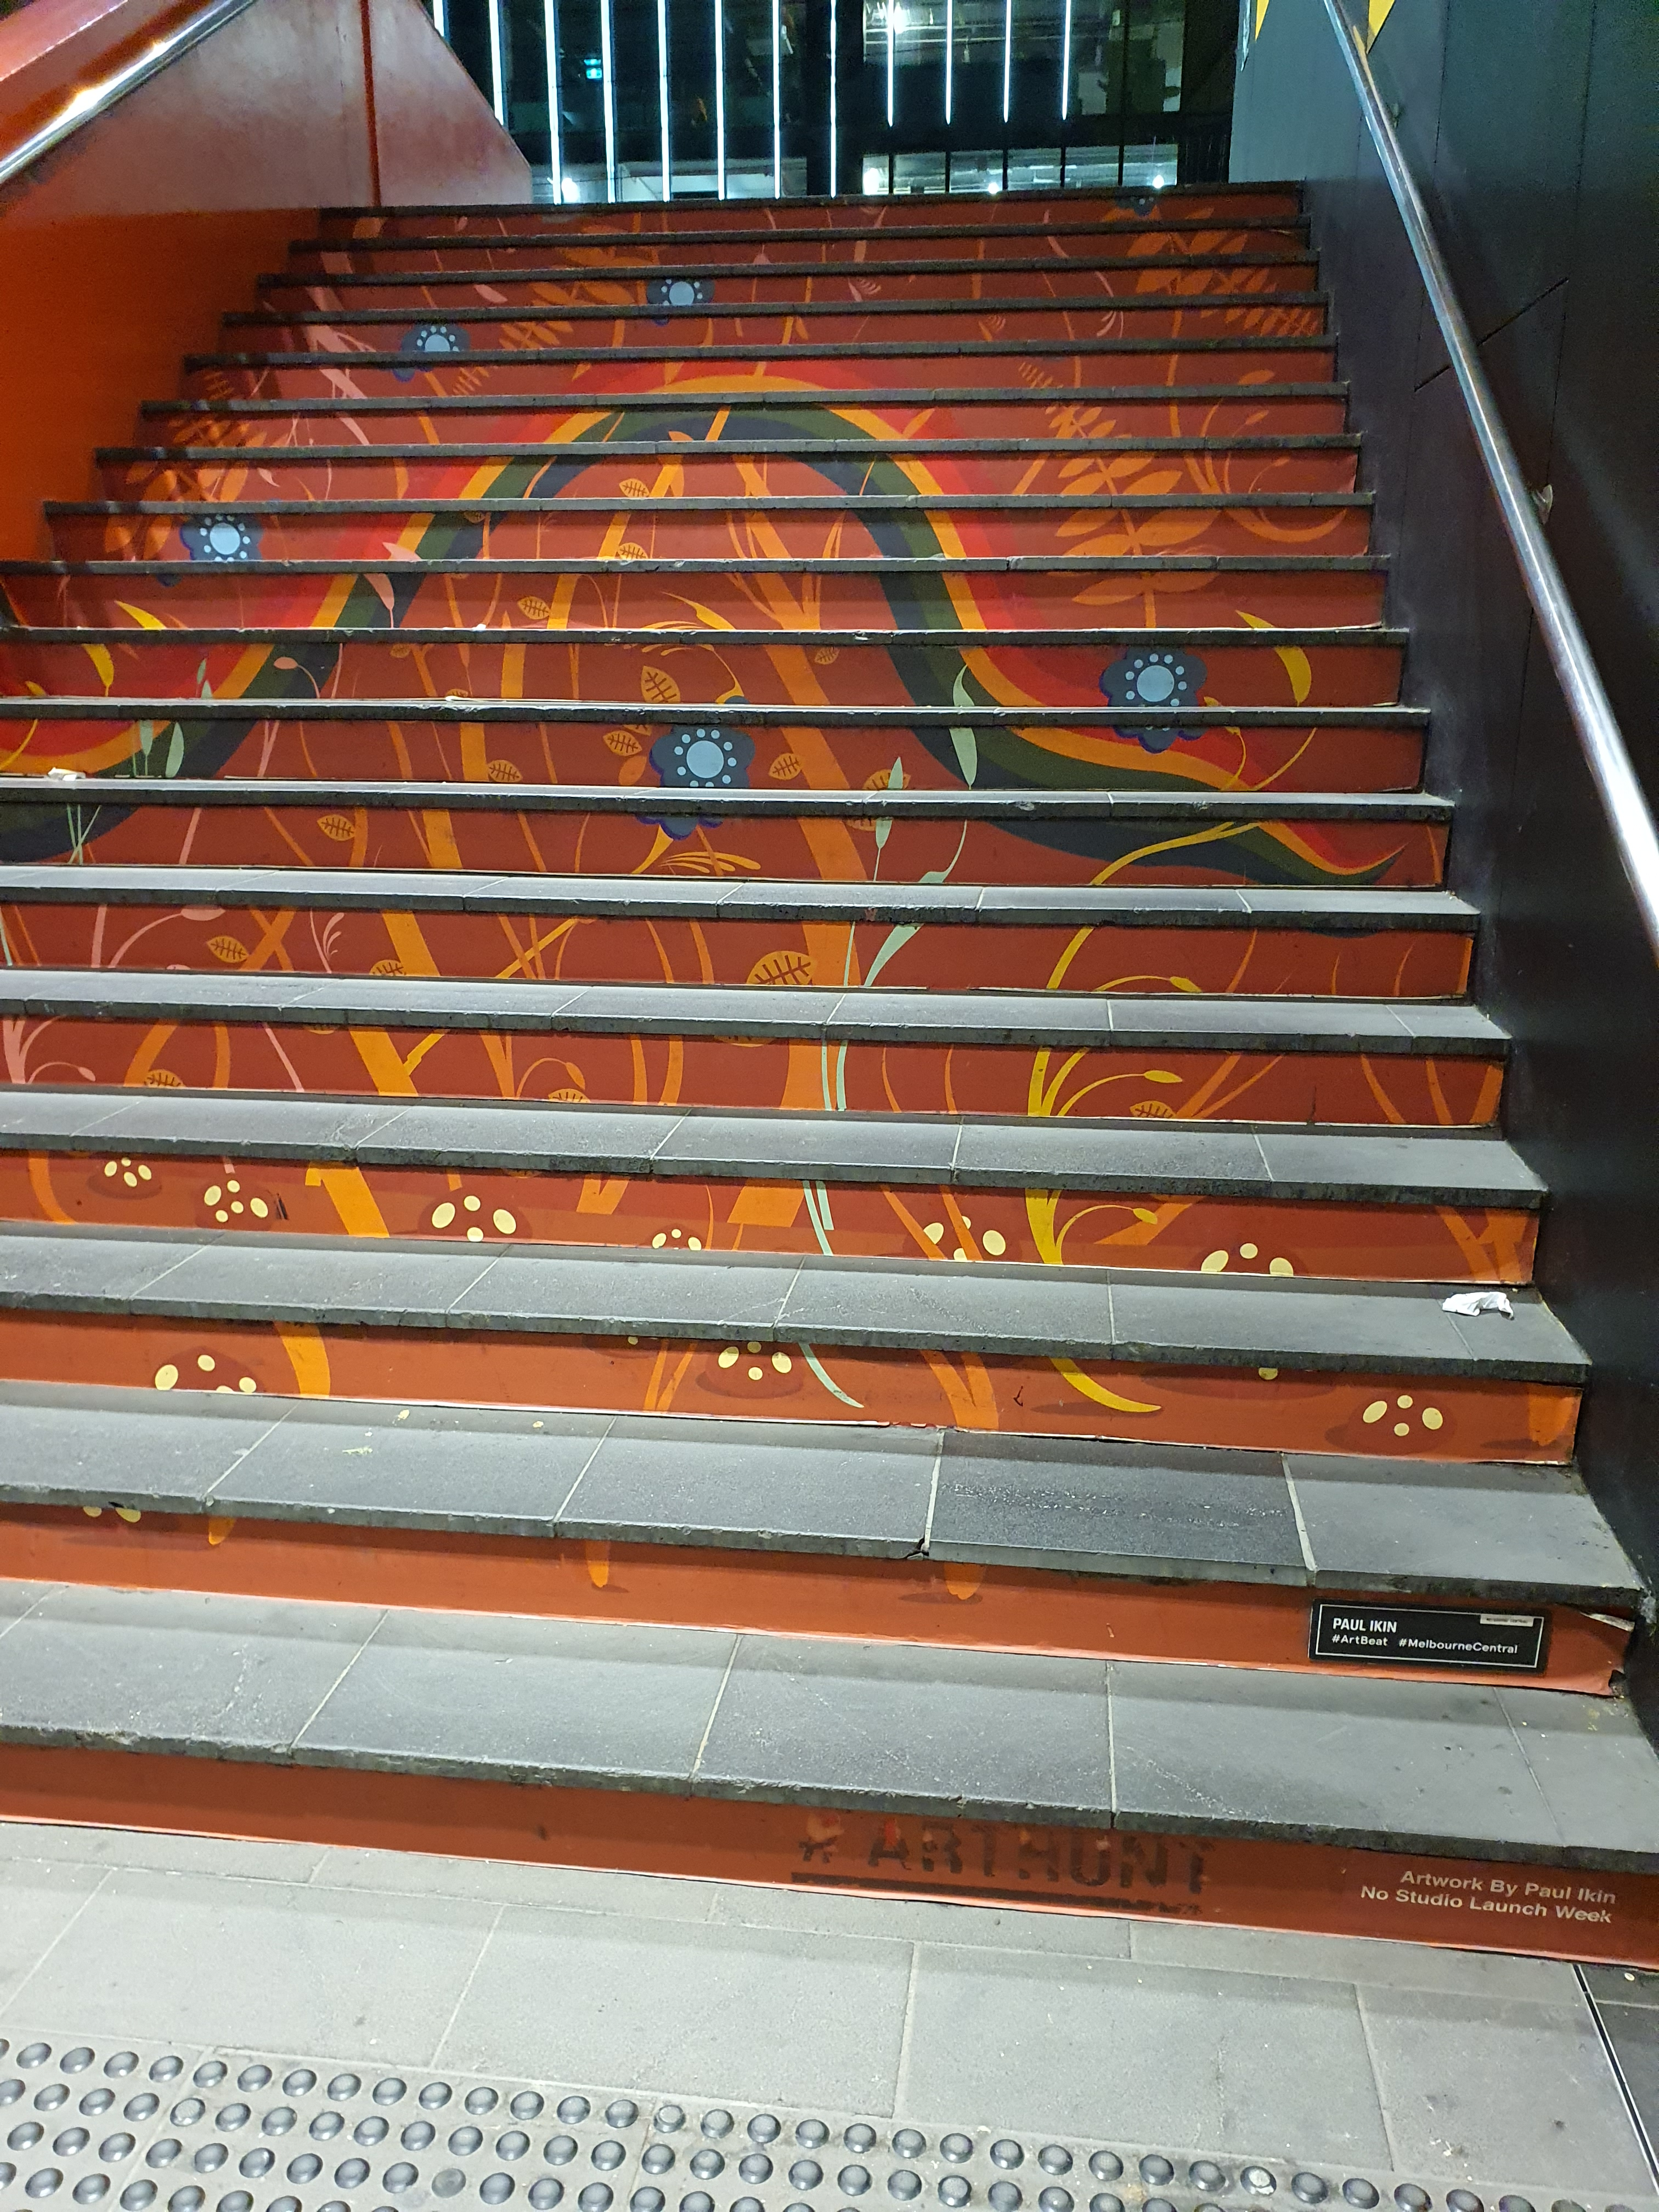upstairs: (16, 1083, 1551, 2094)
